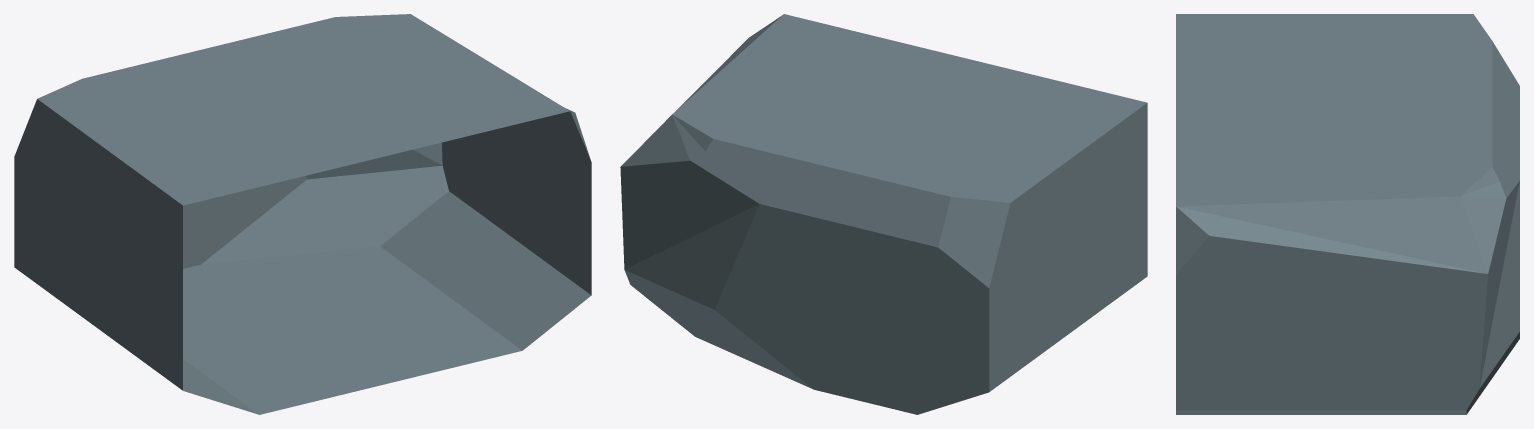
Rendered from Stepping Stone 01.FBX.
The picture shows the model from 3 angles, left to right: view 1: azimuth 30°, elevation 25°; view 2: azimuth 150°, elevation 25°; view 3: azimuth 270°, elevation 25°; orthographic projection. The views are drawn at different scales.
Parts seen in each view (by area): view 1: Stepping Stone 01; view 2: Stepping Stone 01; view 3: Stepping Stone 01.
Boxes of the visible parts, x1=… form: Stepping Stone 01: x1=14, y1=14, x2=591, y2=414; Stepping Stone 01: x1=620, y1=14, x2=1147, y2=414; Stepping Stone 01: x1=1176, y1=14, x2=1519, y2=414.
Bounding box in the file's own units: 140 × 100 × 74.53.
